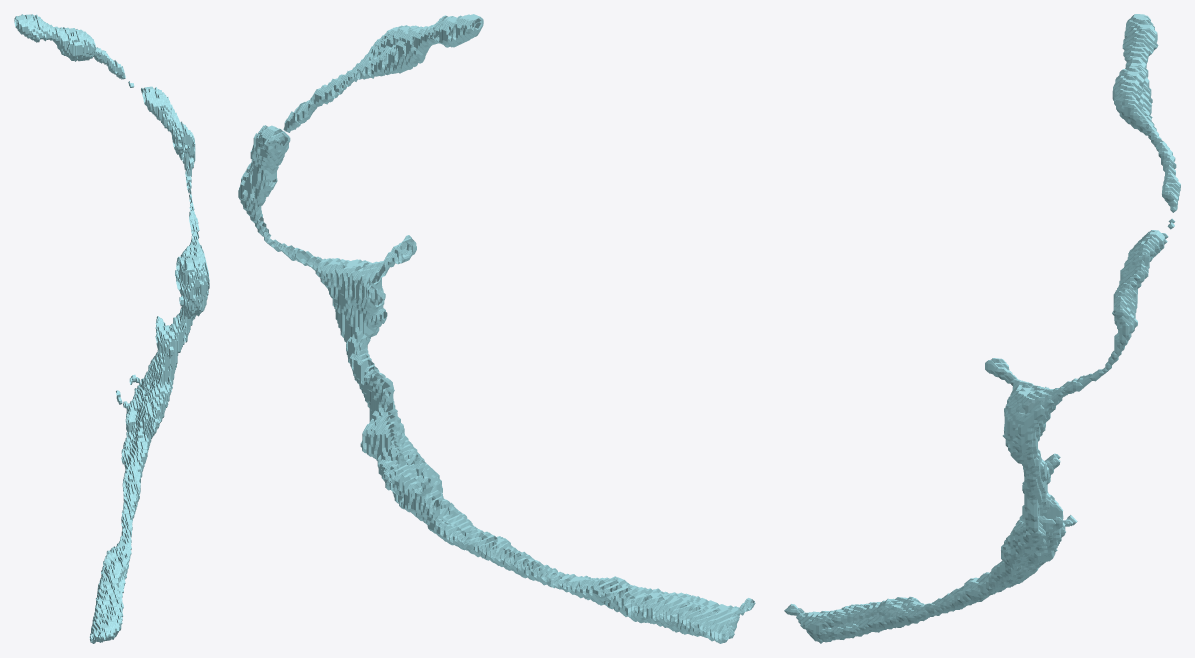
File: SVV_ADLR.gltf
3 views of the same model, side by side, from view 1: azimuth 30°, elevation 25°; view 2: azimuth 150°, elevation 25°; view 3: azimuth 270°, elevation 25° (orthographic). The views are drawn at different scales.
Visible parts, largest first — view 1: ADLR; view 2: ADLR; view 3: ADLR.
Part boxes in pixels (<box>): ADLR: <box>14,14,209,643</box>; ADLR: <box>238,14,755,643</box>; ADLR: <box>784,14,1180,643</box>.
Size of the model in its own units: 64819 by 141153 by 78058.
